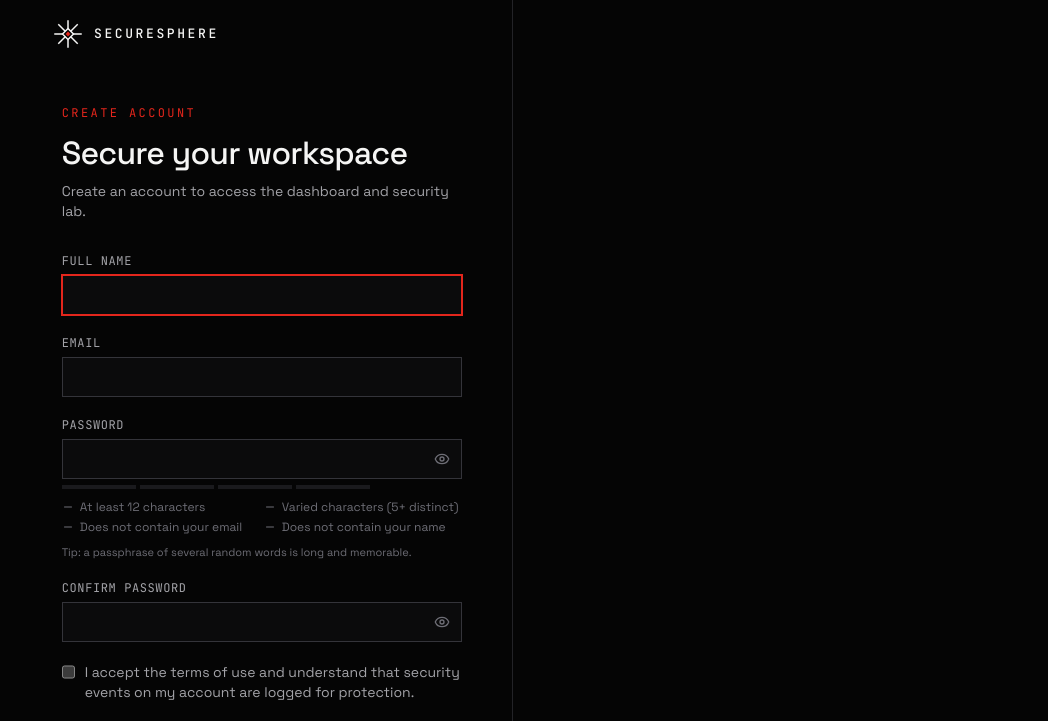
Scenario: RegisterPage › maps server-side policy errors onto the password field
Type "Bob Builder" into the field labelled "Full name" at (262, 295), box top-left (62, 275), bottom-right (462, 315)
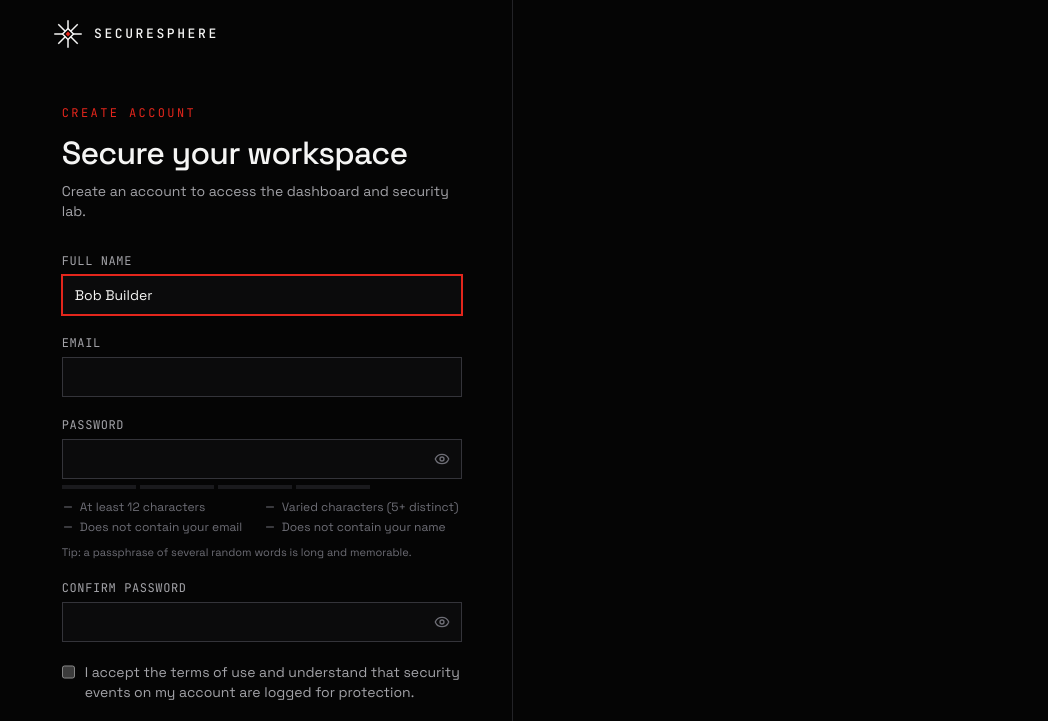
Type "bob@example.com" into the field labelled "Email" at (262, 377), box top-left (62, 357), bottom-right (462, 397)
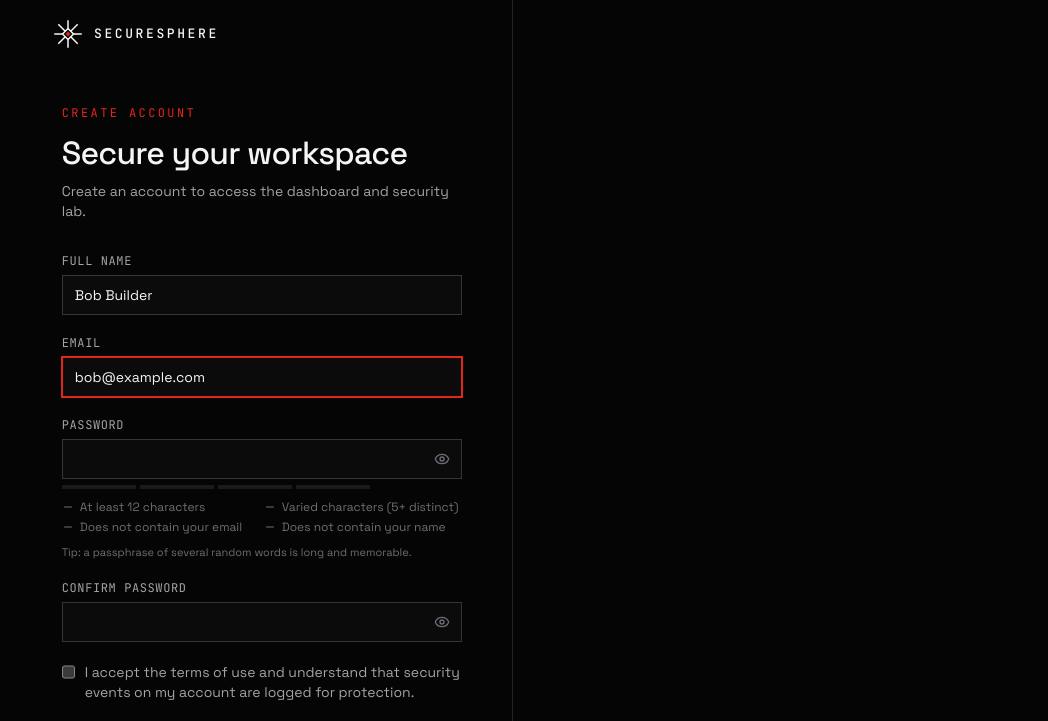
Type "password1234" into the password field labelled "Password" at (262, 459), box top-left (62, 439), bottom-right (462, 479)
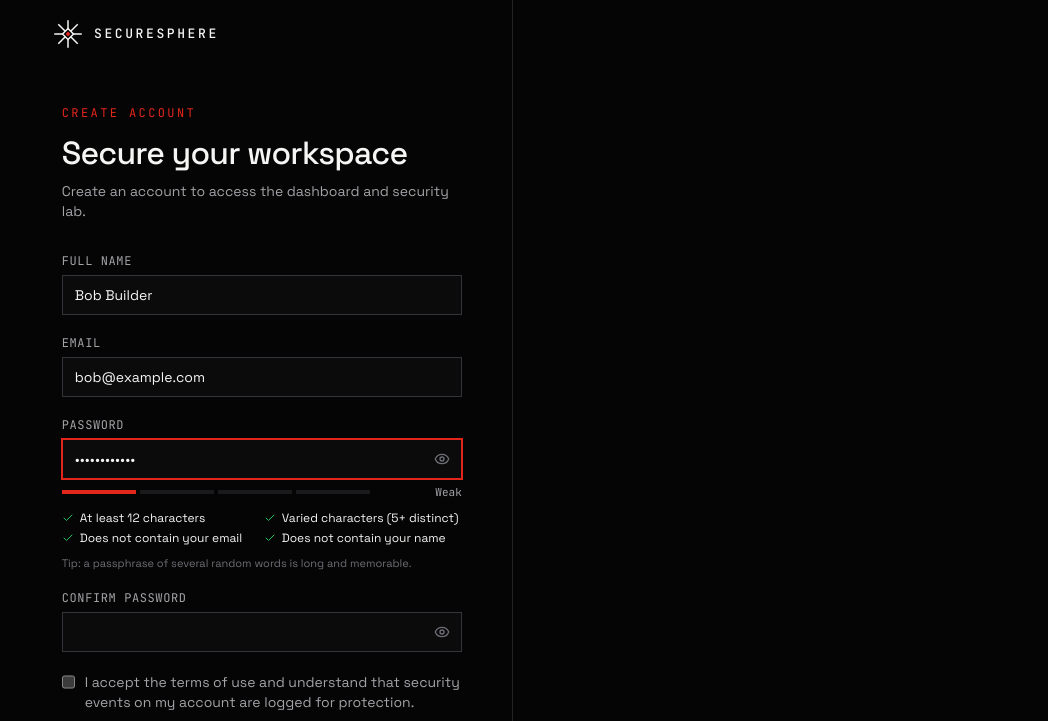
Type "password1234" into the password field labelled "Confirm password" at (262, 632), box top-left (62, 612), bottom-right (462, 652)
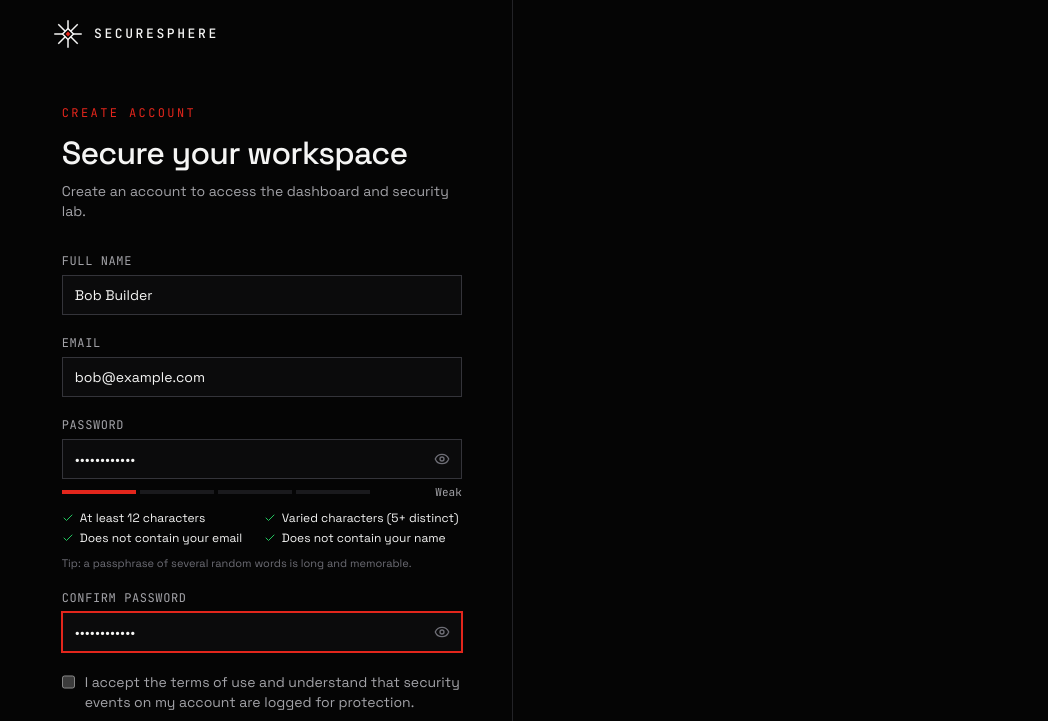
Click the checkbox at (68, 682), box top-left (62, 674), bottom-right (75, 690)
(page scrolled)
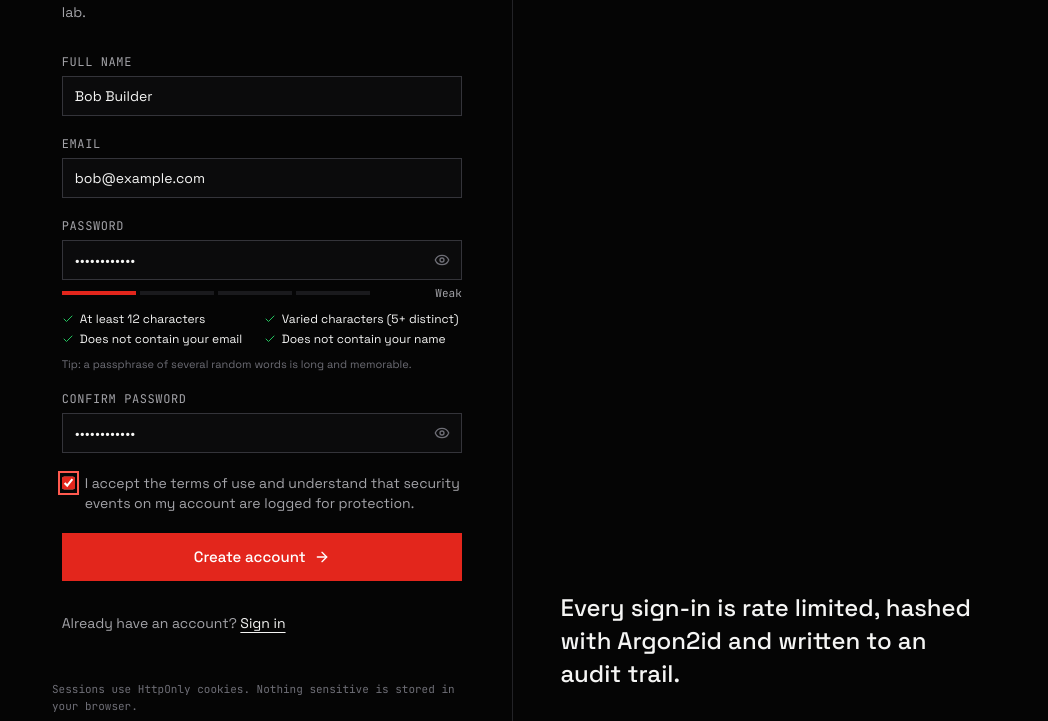
Click the button "Create account" at (262, 557), box top-left (62, 533), bottom-right (462, 581)
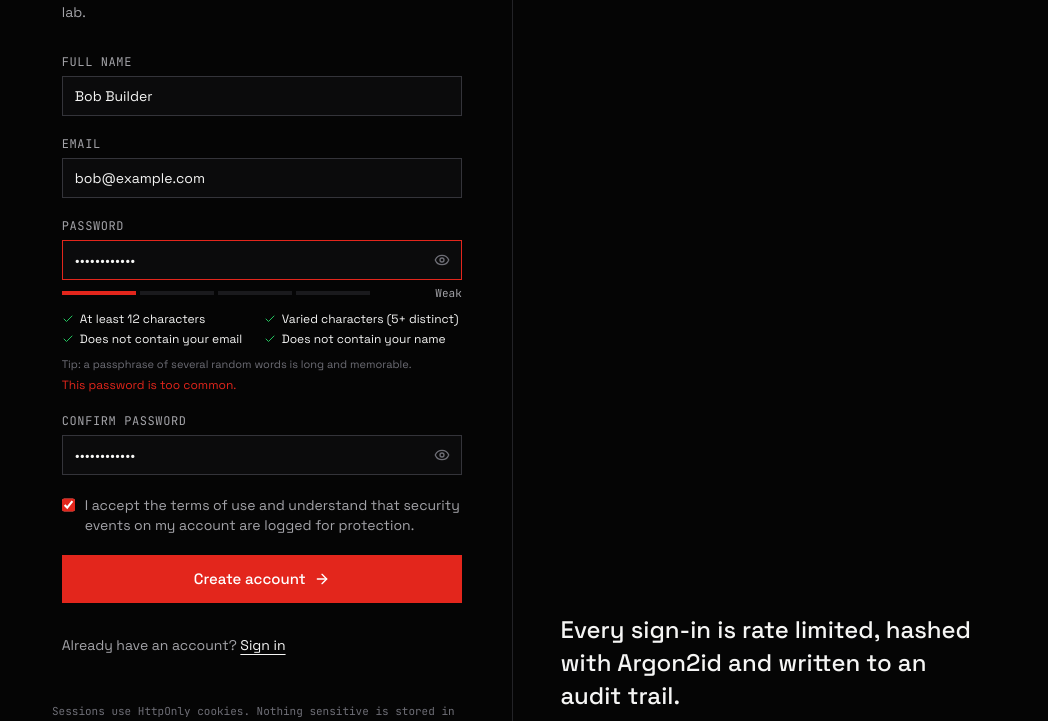
Now the text "This password is too common." is shown, box top-left (62, 377), bottom-right (236, 393)
